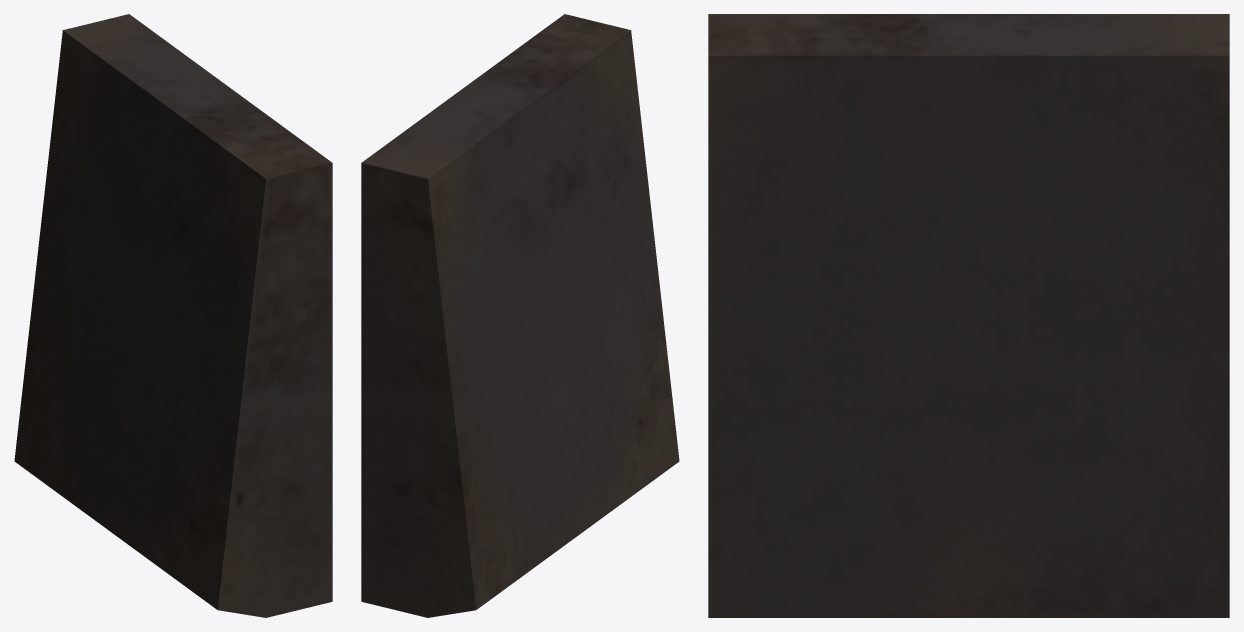
The model's file is BLD_Window.fbx.
3 views of the same model, side by side, from view 1: azimuth 30°, elevation 25°; view 2: azimuth 150°, elevation 25°; view 3: azimuth 270°, elevation 25° (orthographic). The views are drawn at different scales.
Parts seen in each view (by area): view 1: window; view 2: window; view 3: window.
Part boxes in pixels (bbox=[...]): window: bbox=[14, 14, 332, 617]; window: bbox=[361, 14, 679, 617]; window: bbox=[708, 14, 1229, 617].
Size of the model in its own units: 66.02 by 241 by 202.
1 material, 1 textured.
